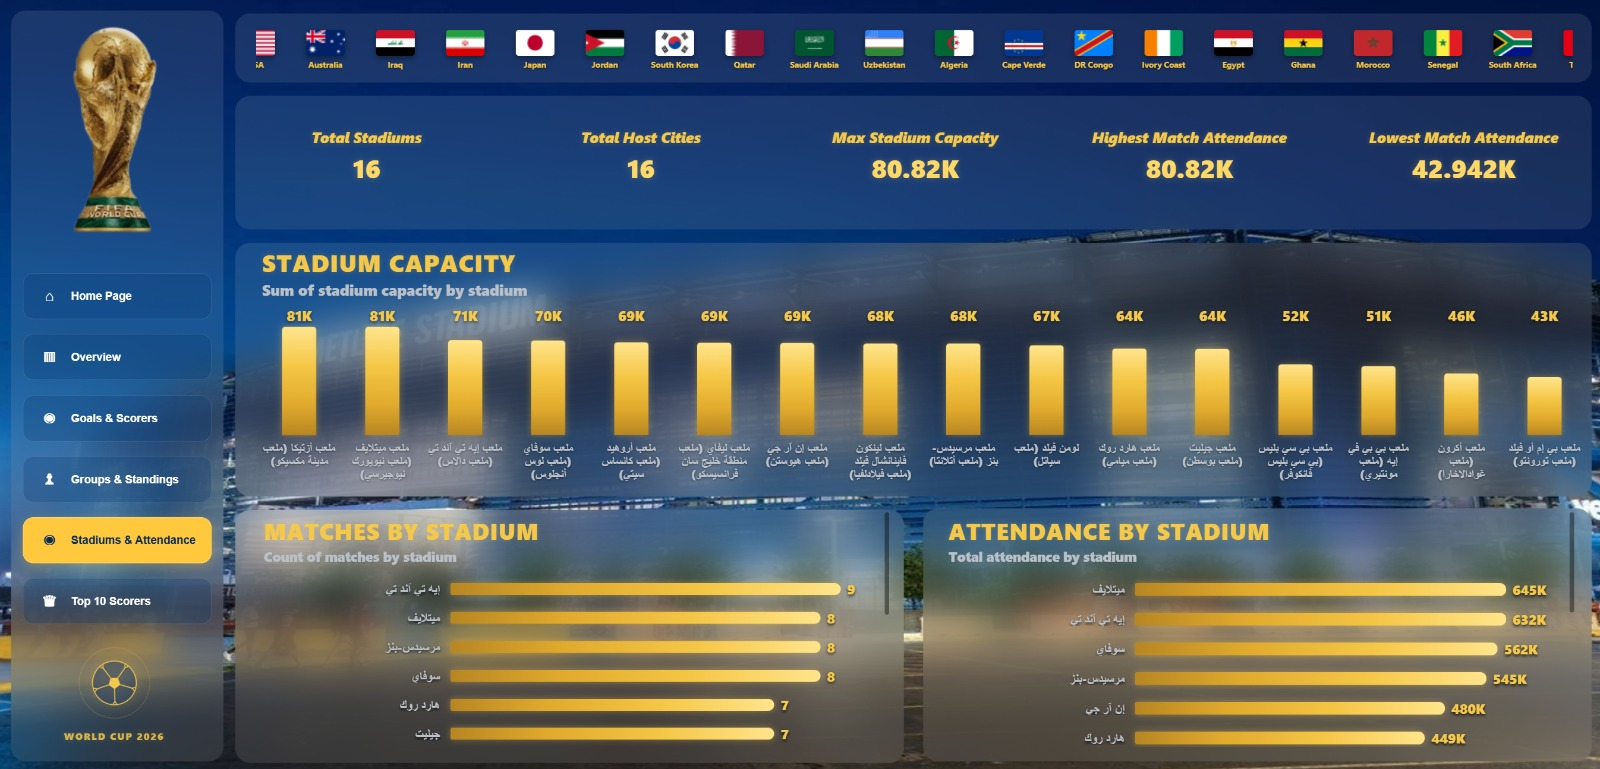

This screenshot's page, from the dashboard's own definition file:
{"tool":"powerbi","page":{"name":"Stadiums & Attendance","canvas":[2162,1045],"ordinal":4},"visuals":[{"type":"htmlContent443BE3AD55E043BF878BED274D3A6855","fields":{"content":["HTML Dax.Stadium KPIs HTML"]},"box":[312,160,1846,124],"z":0},{"type":"htmlContent443BE3AD55E043BF878BED274D3A6855","fields":{"content":["HTML Dax.Stadium Capacity HTML"]},"box":[324,318,1840,376],"z":1000},{"type":"htmlContent443BE3AD55E043BF878BED274D3A6855","fields":{"content":["HTML Dax.Matches By Stadium HTML"]},"box":[322,678,896,348],"z":2000},{"type":"htmlContent443BE3AD55E043BF878BED274D3A6855","fields":{"content":["HTML Dax.Attendance By Stadium HTML"]},"box":[1244,678,896,348],"z":3000},{"type":"htmlContent443BE3AD55E043BF878BED274D3A6855","fields":{"content":["HTML DAX.Page Navigation HTML test 2"]},"box":[4,338,314,668],"z":4000},{"type":"htmlContent443BE3AD55E043BF878BED274D3A6855","fields":{"content":["HTML DAX.Teams Marquee 4"]},"box":[332,22,1804,104],"z":5000},{"type":"actionButton","box":[98,396,84,16],"z":6000},{"type":"actionButton","box":[98,478,70,18],"z":7000},{"type":"actionButton","box":[98,560,120,16],"z":8000},{"type":"actionButton","box":[98,642,146,18],"z":9000},{"type":"actionButton","box":[96,804,112,18],"z":10000},{"type":"htmlContent443BE3AD55E043BF878BED274D3A6855","fields":{"content":["HTML DAX.Sidebar Decoration HTML 3"]},"box":[0,861,314,184],"z":10001}]}

Visuals, with their boxes on the page's 2162x1045 design canvas (x1, y1, x2, y2). These are canvas units, not pixel positions in the 1600x769 screenshot, which may show the page scaled, cropped or inside an application window:
htmlContent443BE3AD55E043BF878BED274D3A6855 - HTML Dax.Stadium KPIs HTML: bbox=(312, 160, 2158, 284)
htmlContent443BE3AD55E043BF878BED274D3A6855 - HTML Dax.Stadium Capacity HTML: bbox=(324, 318, 2164, 694)
htmlContent443BE3AD55E043BF878BED274D3A6855 - HTML Dax.Matches By Stadium HTML: bbox=(322, 678, 1218, 1026)
htmlContent443BE3AD55E043BF878BED274D3A6855 - HTML Dax.Attendance By Stadium HTML: bbox=(1244, 678, 2140, 1026)
htmlContent443BE3AD55E043BF878BED274D3A6855 - HTML DAX.Page Navigation HTML test 2: bbox=(4, 338, 318, 1006)
htmlContent443BE3AD55E043BF878BED274D3A6855 - HTML DAX.Teams Marquee 4: bbox=(332, 22, 2136, 126)
actionButton: bbox=(98, 396, 182, 412)
actionButton: bbox=(98, 478, 168, 496)
actionButton: bbox=(98, 560, 218, 576)
actionButton: bbox=(98, 642, 244, 660)
actionButton: bbox=(96, 804, 208, 822)
htmlContent443BE3AD55E043BF878BED274D3A6855 - HTML DAX.Sidebar Decoration HTML 3: bbox=(0, 861, 314, 1045)
